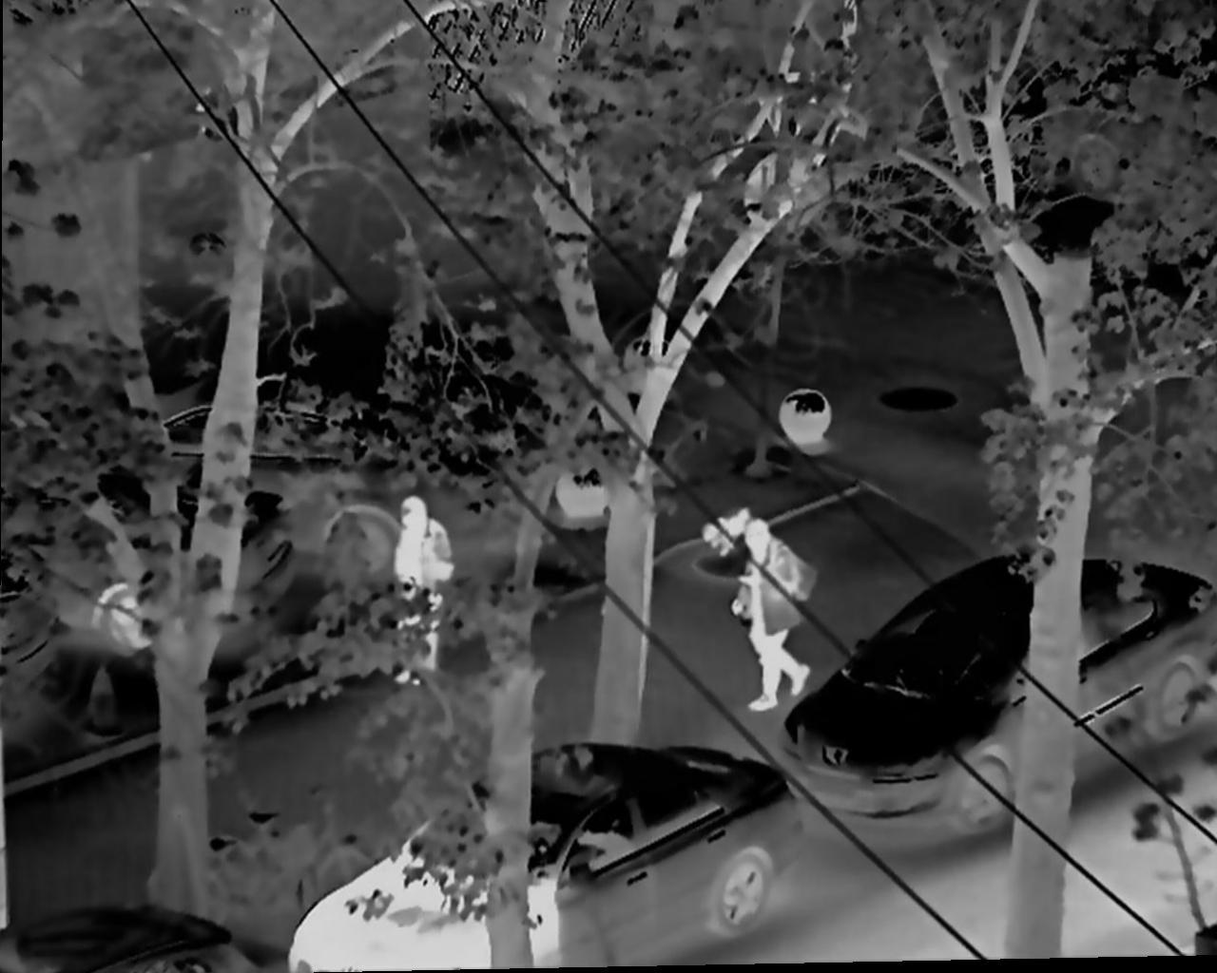person: (373, 492, 465, 711), (720, 522, 824, 711)
